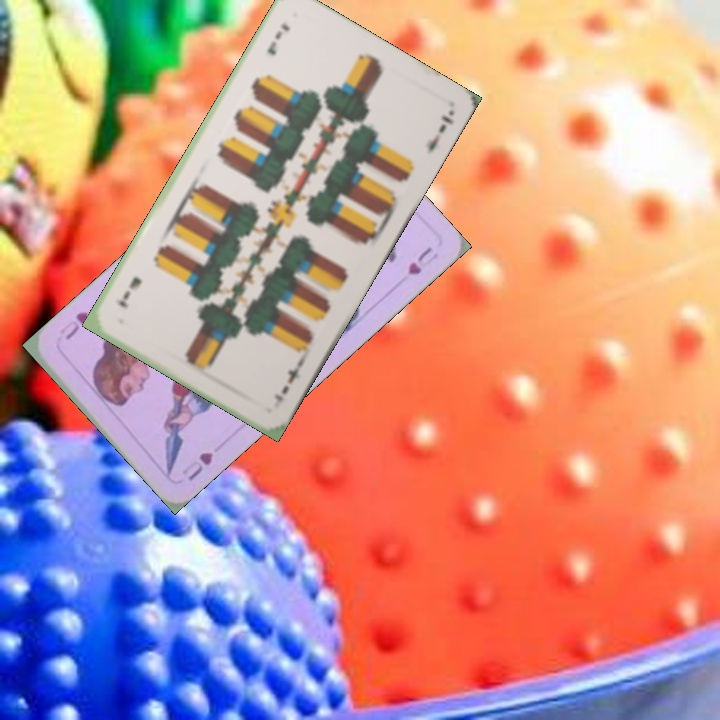E7: (269, 356, 307, 405), (262, 19, 293, 58)
HU: (177, 448, 216, 484)
